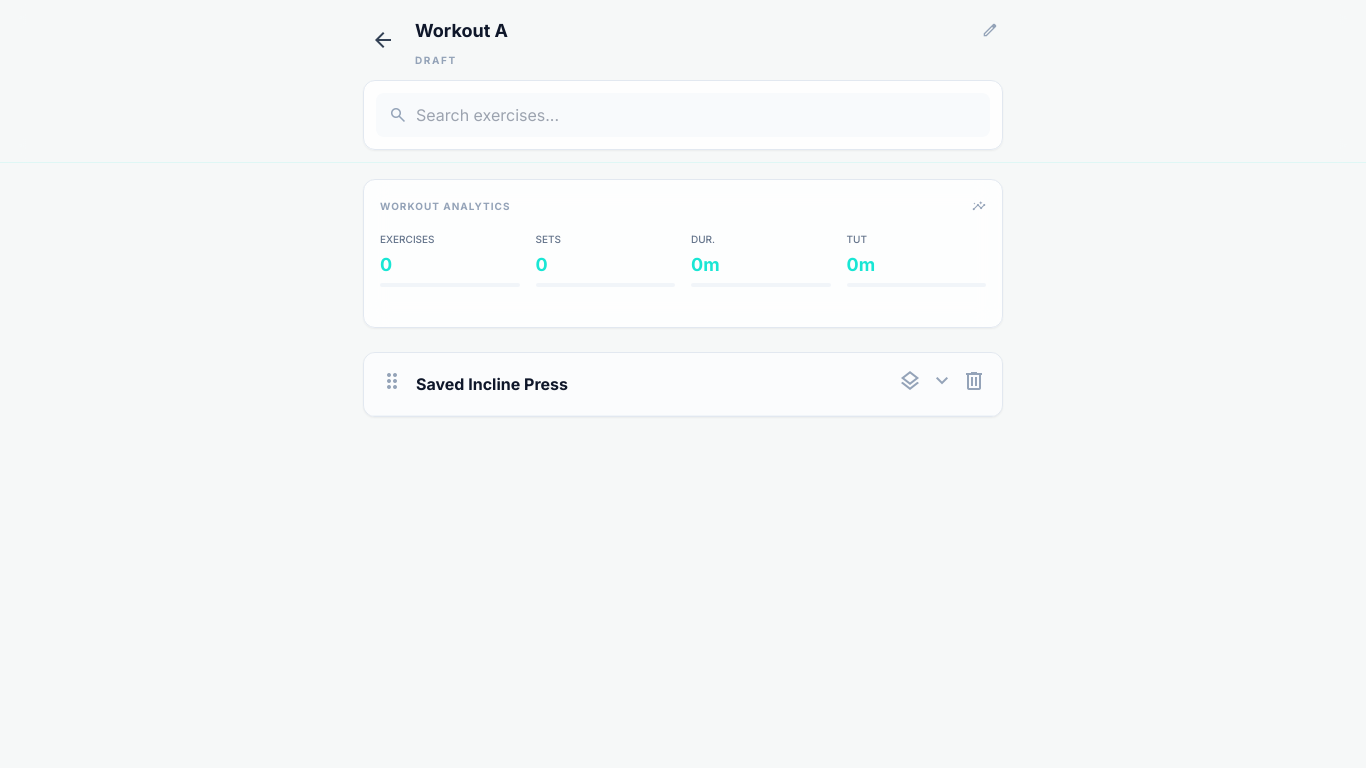
Scenario: ManualWorkoutEditor exercise search › renders normal pool search results when items are returned
This screenshot has width=1366, height=768.
Focus the field with placeholder "Search exercises...". click: point(683, 115)
box: x1=376 y1=93 x2=990 y2=137
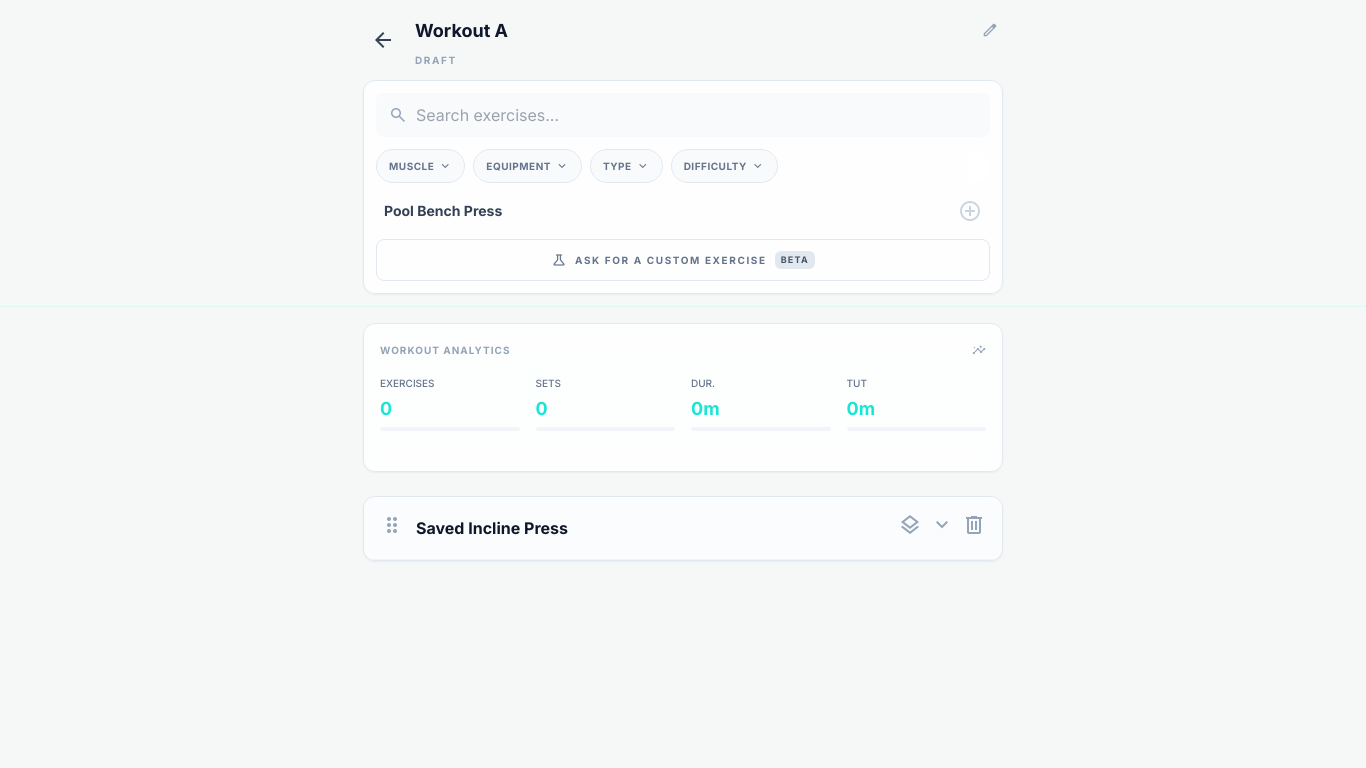
Check: the button "Pool Bench Press" is shown, box x1=376 y1=191 x2=990 y2=231
